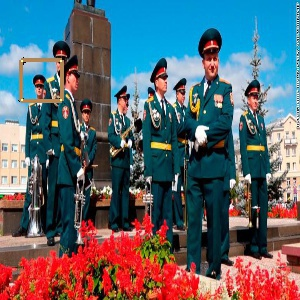square: (18, 57, 65, 104)
